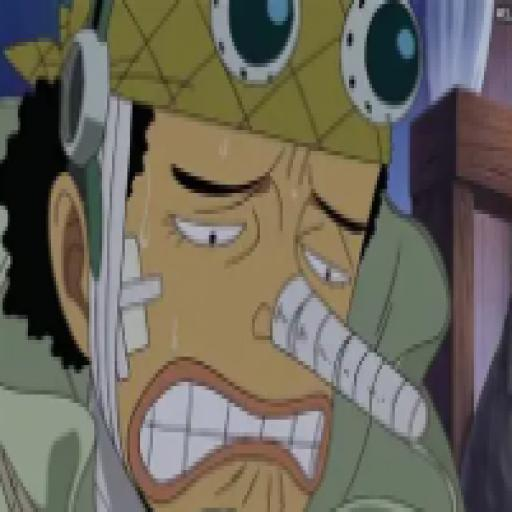Usopp: (2, 3, 470, 512)
